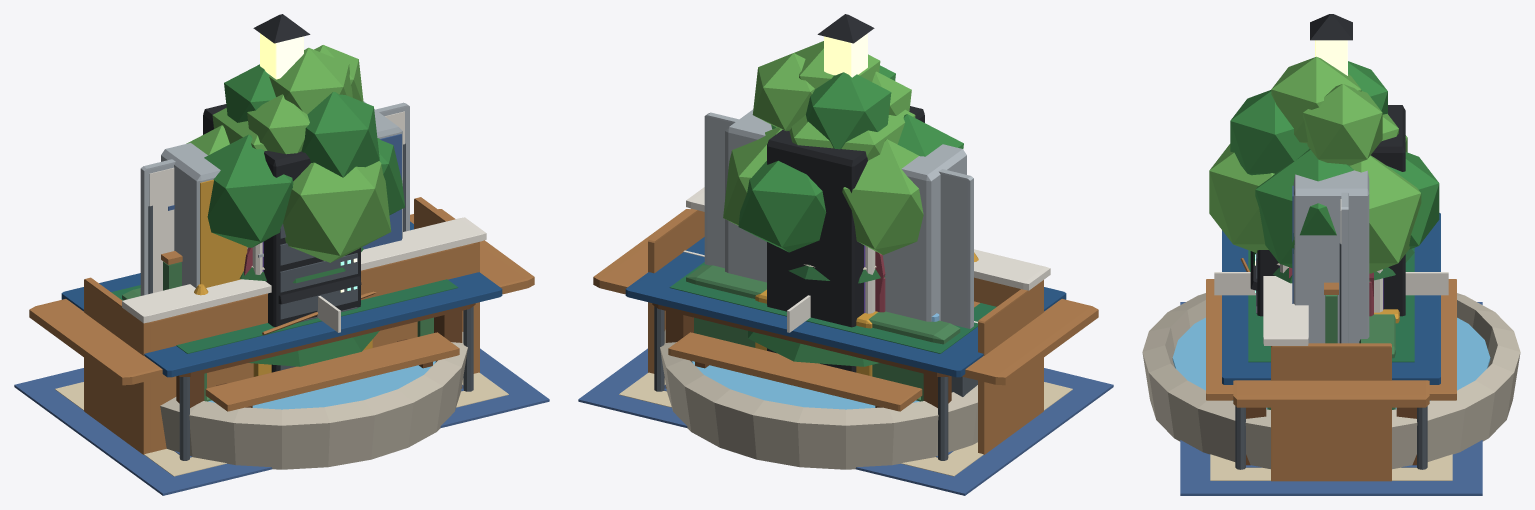
File: mobilia.glb
3 renders of one model, left to right at view 1: azimuth 30°, elevation 25°; view 2: azimuth 150°, elevation 25°; view 3: azimuth 270°, elevation 25°, orthographic.
Parts seen in each view (by area): view 1: arvore, balcao, fonte, tapete, mesa_pingpong, armario, mesa_picnic, rack_servidor, mesa_reuniao, sinuca, lousa, poste (+3 smaller); view 2: arvore, fonte, balcao, rack_servidor, mesa_pingpong, tapete, armario, lousa, mesa_reuniao, mesa_picnic, sinuca, sofa (+4 smaller); view 3: arvore, fonte, balcao, mesa_pingpong, armario, tapete, mesa_reuniao, mesa_picnic, rack_servidor, sinuca, poste, lousa (+3 smaller).
Part boxes in pixels (x1=…): arvore: x1=186, y1=45, x2=404, y2=262; balcao: x1=84, y1=197, x2=486, y2=454; fonte: x1=160, y1=266, x2=467, y2=469; tapete: x1=14, y1=348, x2=549, y2=495; mesa_pingpong: x1=61, y1=221, x2=502, y2=460; armario: x1=161, y1=101, x2=402, y2=287; mesa_picnic: x1=205, y1=332, x2=459, y2=411; rack_servidor: x1=203, y1=104, x2=360, y2=372; mesa_reuniao: x1=29, y1=209, x2=534, y2=385; sinuca: x1=111, y1=279, x2=475, y2=407; lousa: x1=140, y1=102, x2=409, y2=295; poste: x1=253, y1=14, x2=310, y2=79; arvore: x1=723, y1=41, x2=963, y2=254; fonte: x1=660, y1=264, x2=977, y2=469; balcao: x1=648, y1=187, x2=1050, y2=454; rack_servidor: x1=767, y1=106, x2=924, y2=372; mesa_pingpong: x1=625, y1=237, x2=1066, y2=460; tapete: x1=578, y1=348, x2=1113, y2=495; armario: x1=725, y1=109, x2=966, y2=321; lousa: x1=704, y1=112, x2=973, y2=328; mesa_reuniao: x1=593, y1=209, x2=1098, y2=396; mesa_picnic: x1=668, y1=301, x2=979, y2=411; sinuca: x1=652, y1=262, x2=996, y2=407; sofa: x1=686, y1=265, x2=960, y2=401; arvore: x1=1209, y1=56, x2=1439, y2=273; fonte: x1=1142, y1=263, x2=1520, y2=469; balcao: x1=1263, y1=276, x2=1391, y2=481; mesa_pingpong: x1=1214, y1=213, x2=1448, y2=469; armario: x1=1292, y1=170, x2=1369, y2=343; tapete: x1=1180, y1=302, x2=1482, y2=495; mesa_reuniao: x1=1233, y1=380, x2=1429, y2=407; mesa_picnic: x1=1206, y1=279, x2=1456, y2=400; rack_servidor: x1=1255, y1=105, x2=1405, y2=316; sinuca: x1=1240, y1=248, x2=1416, y2=465; poste: x1=1310, y1=14, x2=1352, y2=75; lousa: x1=1339, y1=192, x2=1348, y2=343.
Size of the model in its own units: 3.2 by 2.84 by 2.5.
